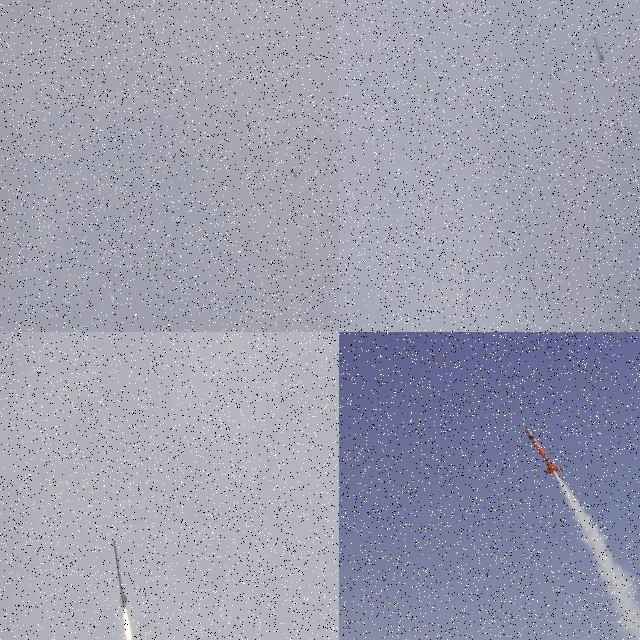Rocket: (524, 428, 565, 476), (113, 534, 128, 610), (592, 36, 604, 60), (290, 170, 298, 179)
